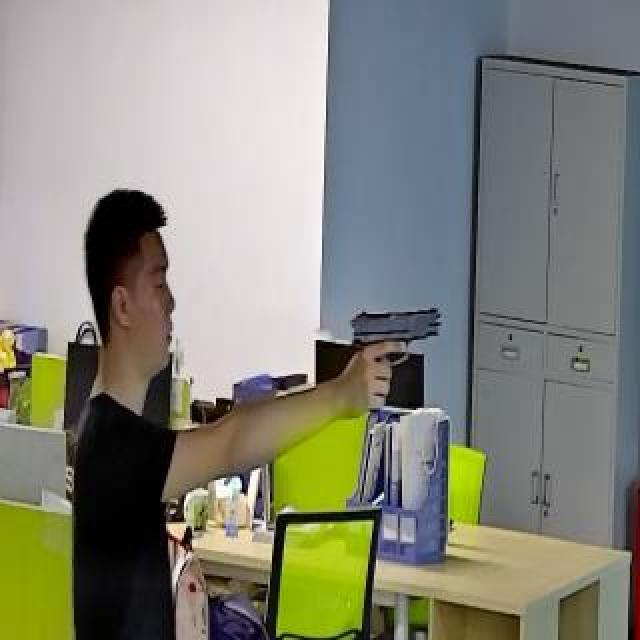Guns: (325, 282, 473, 392)
